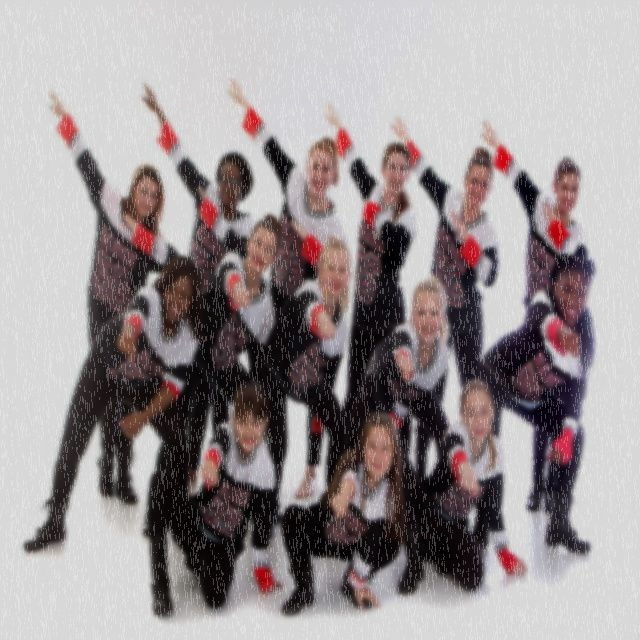pessoa: (46, 88, 180, 506), (21, 252, 203, 558), (224, 70, 350, 503), (140, 80, 258, 500), (139, 210, 284, 546), (478, 111, 591, 516), (389, 110, 501, 492), (476, 247, 596, 554), (322, 99, 420, 457), (144, 378, 284, 618), (250, 230, 356, 542), (388, 374, 530, 597), (276, 408, 408, 618), (343, 274, 451, 460)
